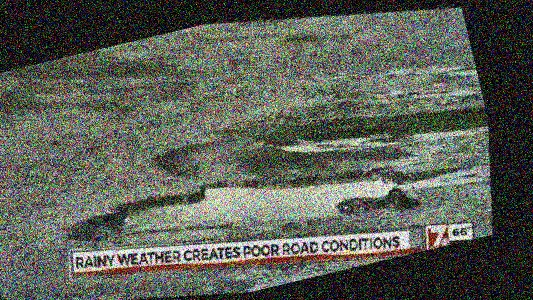pothole: (54, 107, 435, 300)
